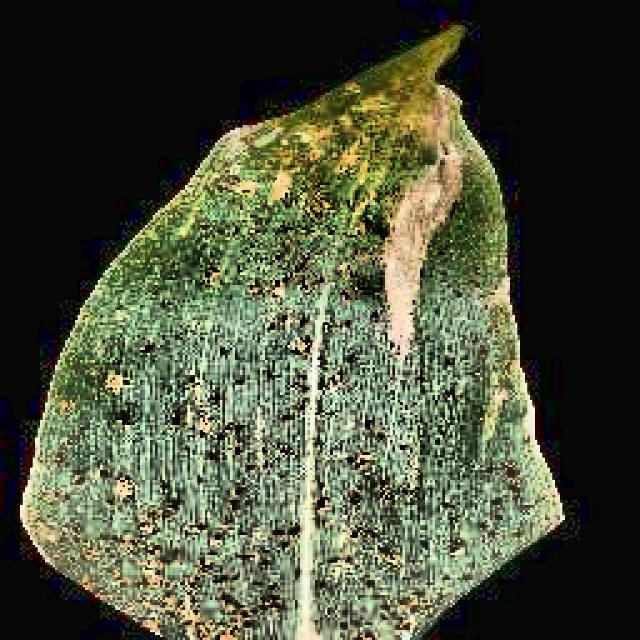common_rust: (65, 23, 474, 640)
